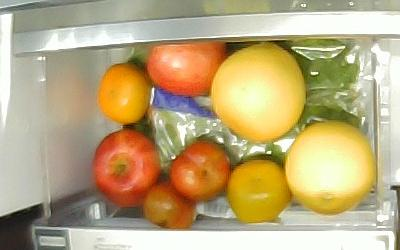apple: (285, 121, 375, 214), (92, 131, 160, 204), (146, 43, 225, 96)
grapefruit: (210, 42, 304, 141)
persimmon: (227, 159, 291, 221), (97, 62, 150, 124)
prune: (169, 141, 230, 200), (144, 181, 194, 229)
